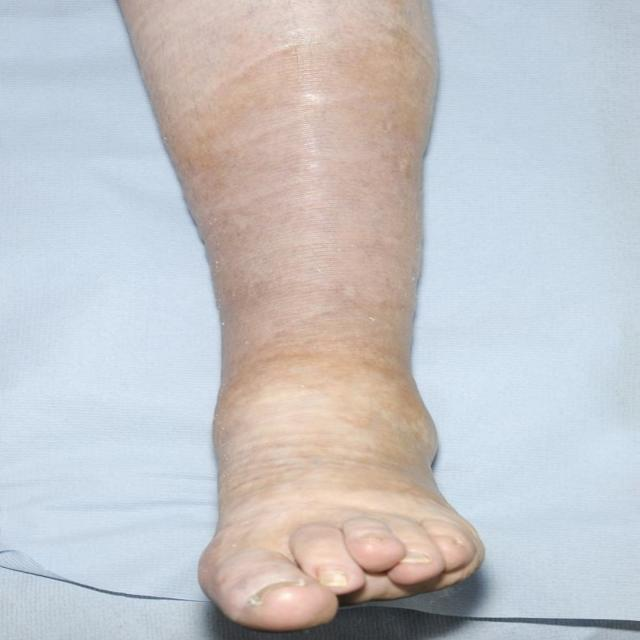wound: (228, 302, 412, 427)
